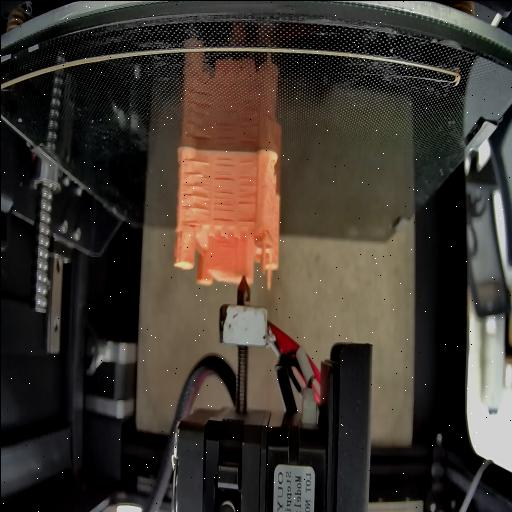cracks: (182, 158, 210, 210), (236, 156, 256, 206), (212, 186, 234, 224), (214, 158, 234, 180), (182, 218, 202, 232), (234, 212, 254, 226)
